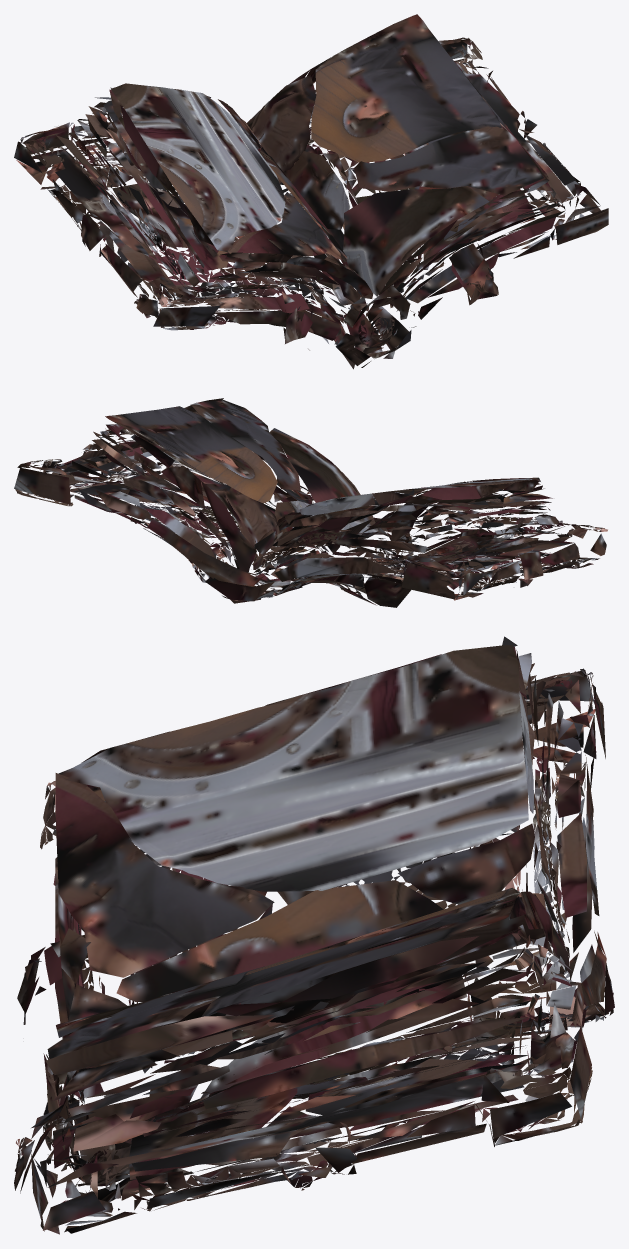
File: LibroFuego.fbx
3 renders of one model, top to bottom at view 1: azimuth 30°, elevation 25°; view 2: azimuth 150°, elevation 25°; view 3: azimuth 270°, elevation 25°, orthographic. The views are drawn at different scales.
Parts seen in each view (by area): view 1: LibroFuego; view 2: LibroFuego; view 3: LibroFuego.
Boxes of the visible parts, x1=… form: LibroFuego: x1=14, y1=14, x2=608, y2=369; LibroFuego: x1=14, y1=398, x2=607, y2=607; LibroFuego: x1=14, y1=636, x2=614, y2=1234.
Bounding box in the file's own units: 103 × 50.06 × 63.07.
